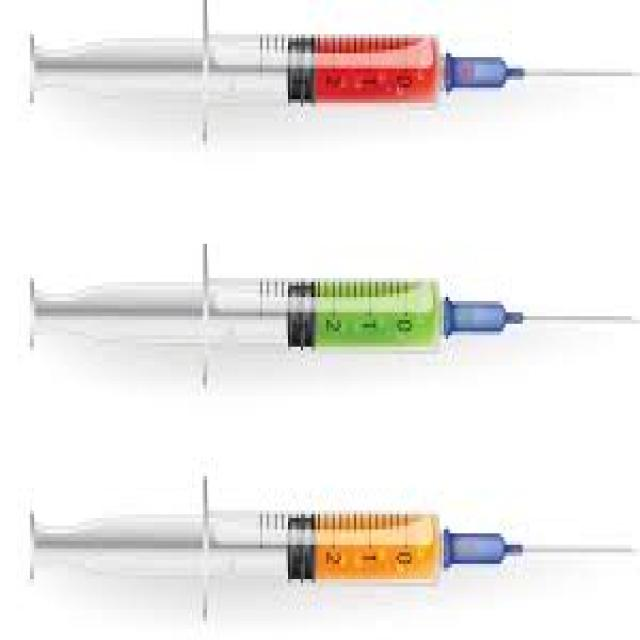syringe: (23, 0, 638, 126), (23, 240, 638, 358), (23, 476, 638, 587)
